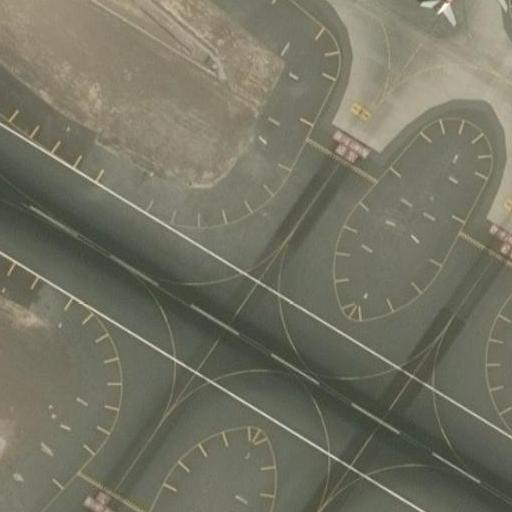Aircraft: (397, 0, 512, 32)
